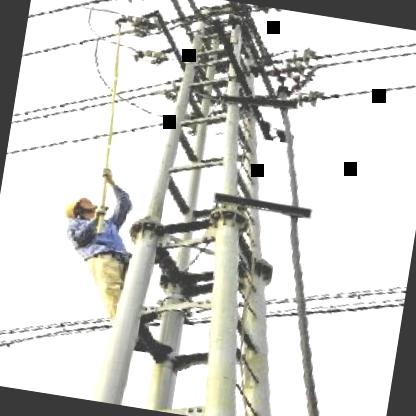helmet: (54, 191, 102, 227)
